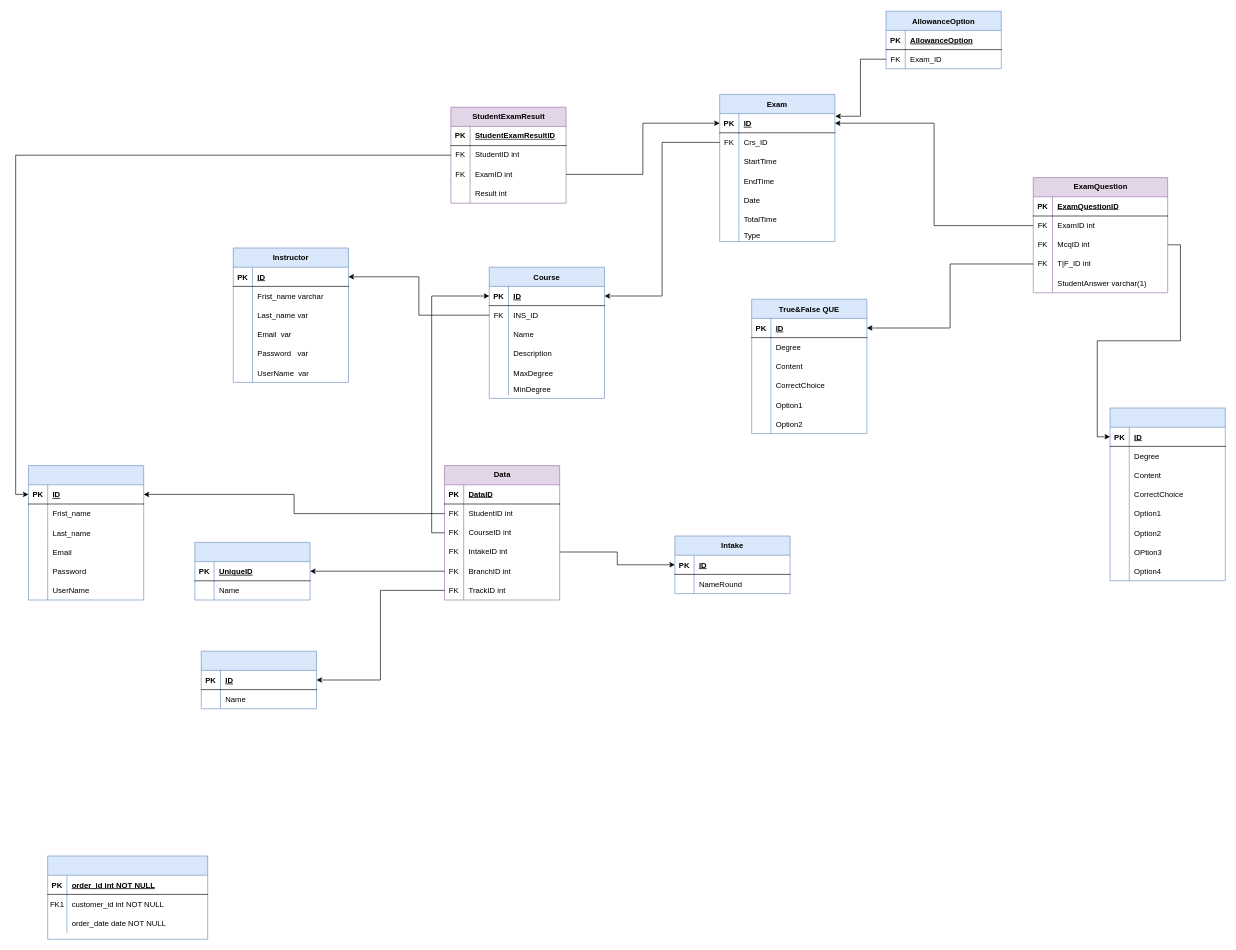
This 1236x950 diagram has some shape labels left out. The box of each missing label's shape, as (x1, y1, x2, y2) in pixels:
Branch: (194, 542, 310, 600)
Mcq QUE: (1109, 407, 1225, 581)
Student: (28, 465, 144, 600)
Track: (201, 651, 316, 709)
TrainingManager: (47, 855, 208, 939)
